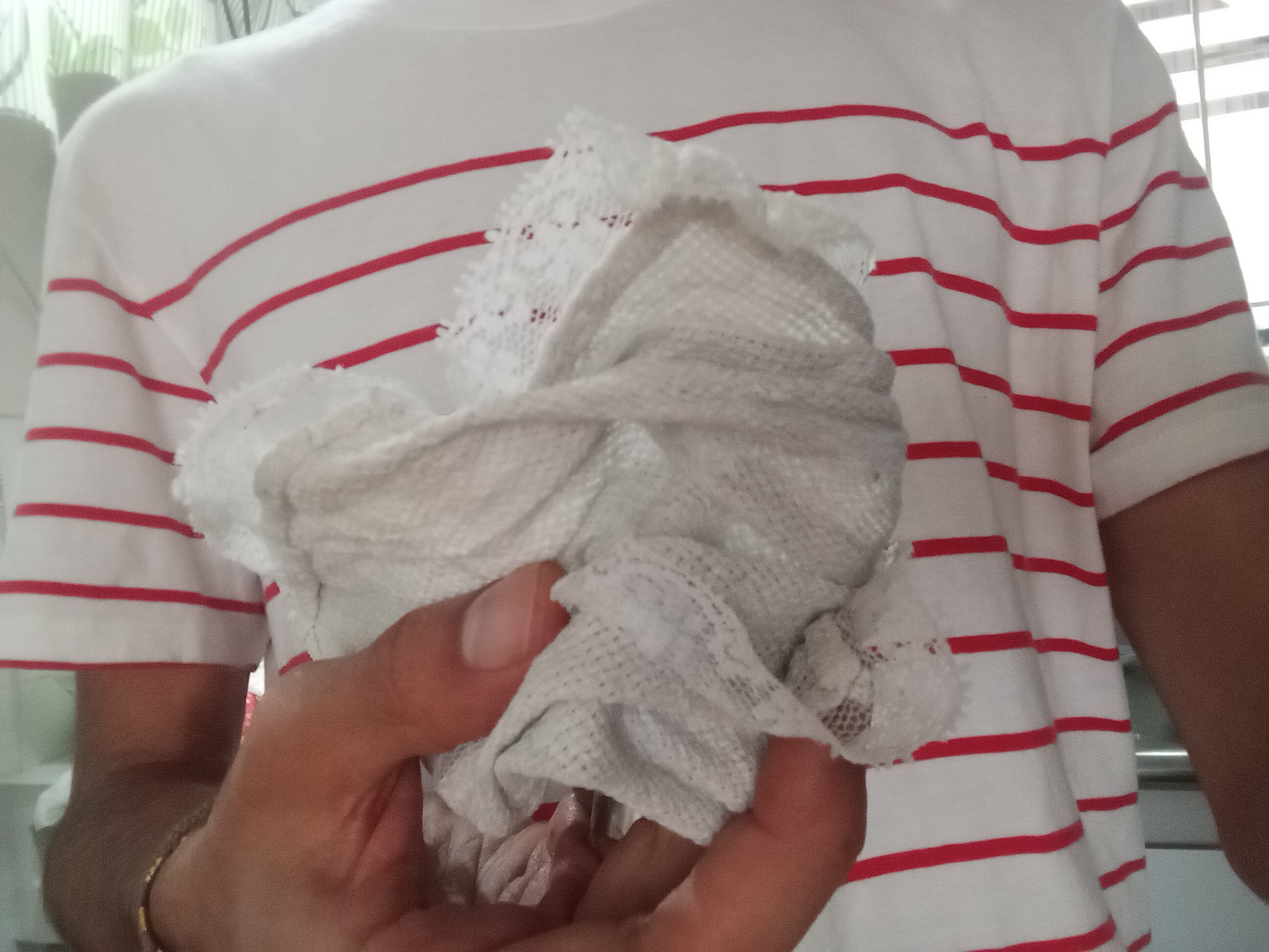Ordinario: (171, 113, 976, 846)
